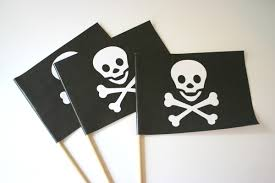Jolly Roger Flag: (56, 20, 171, 130), (132, 50, 260, 135)
